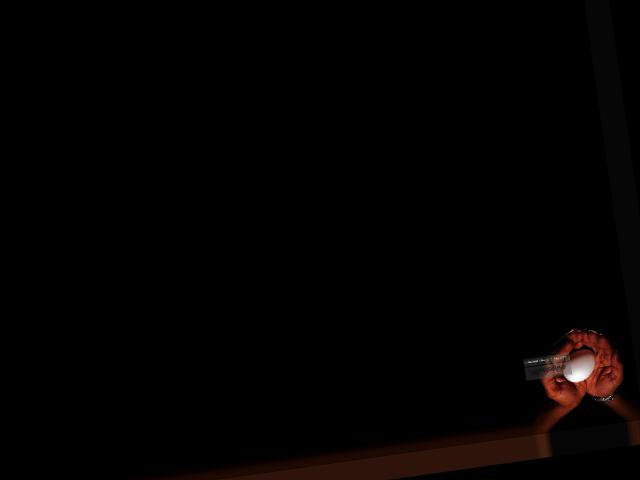egg: (561, 346, 598, 382)
